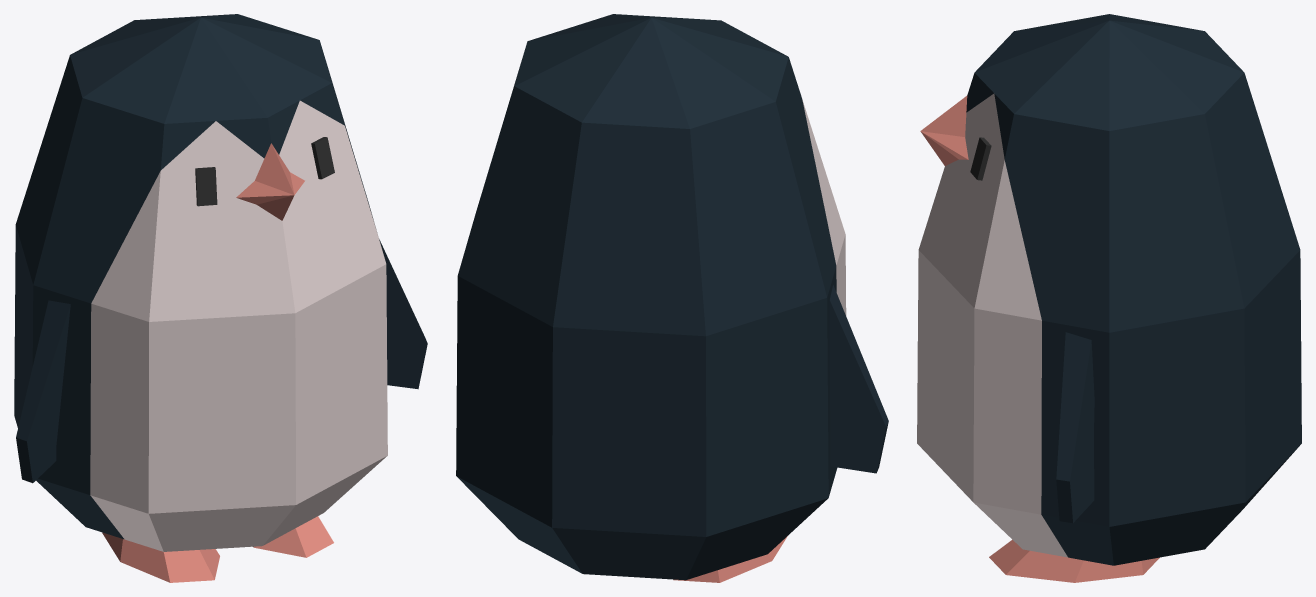
Rendered from penguin.fbx.
3 views of the same model, side by side, from view 1: azimuth 30°, elevation 25°; view 2: azimuth 150°, elevation 25°; view 3: azimuth 270°, elevation 25° (orthographic). The views are drawn at different scales.
Visible parts, largest first — view 1: penguin; view 2: penguin; view 3: penguin.
Part boxes in pixels (x1=…): penguin: x1=14, y1=14, x2=427, y2=582; penguin: x1=456, y1=14, x2=888, y2=582; penguin: x1=917, y1=14, x2=1301, y2=582.
Bounding box in the file's own units: 6231 × 5014 × 7388.
